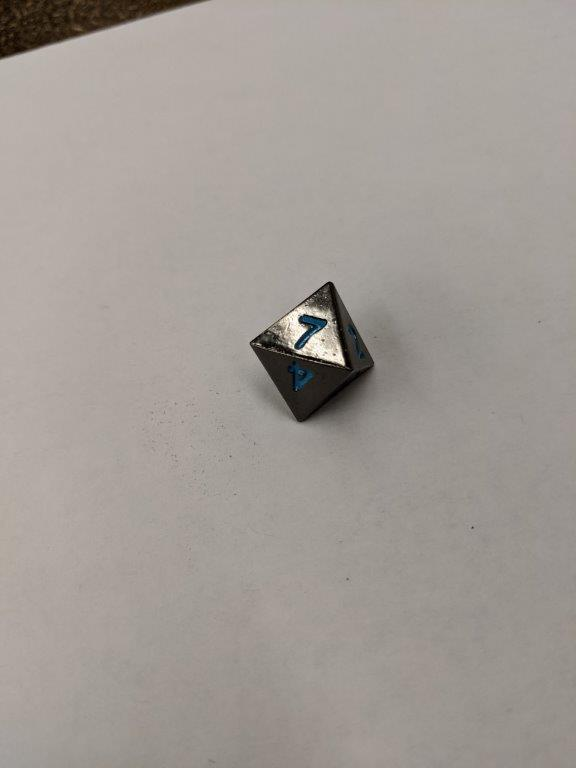d8-7: (249, 281, 377, 422)
